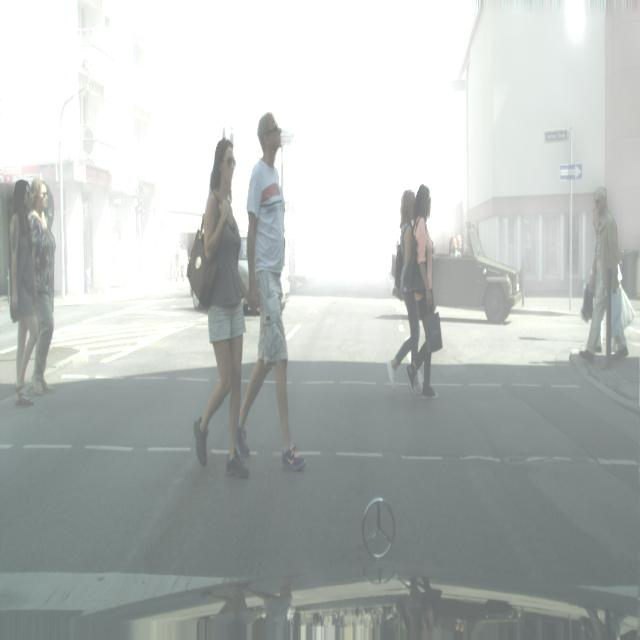bus: (236, 113, 307, 471), (193, 138, 251, 479), (387, 186, 437, 396), (579, 187, 628, 366), (9, 179, 38, 408), (29, 178, 56, 397)
person: (424, 224, 522, 324)
